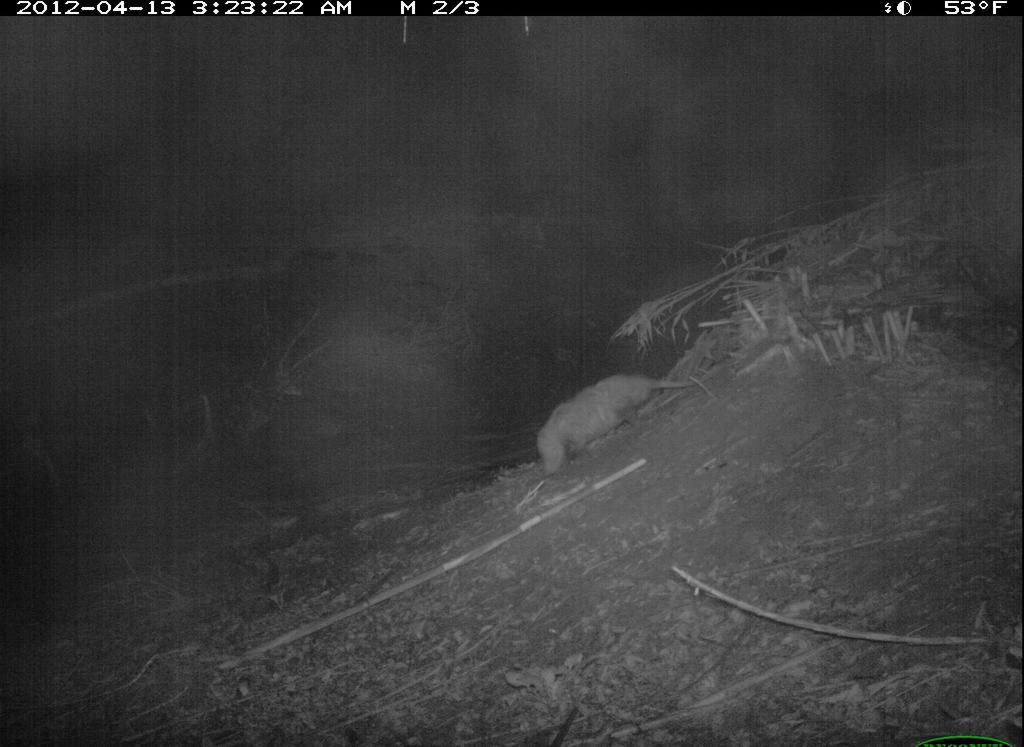opossum: (519, 353, 721, 488)
